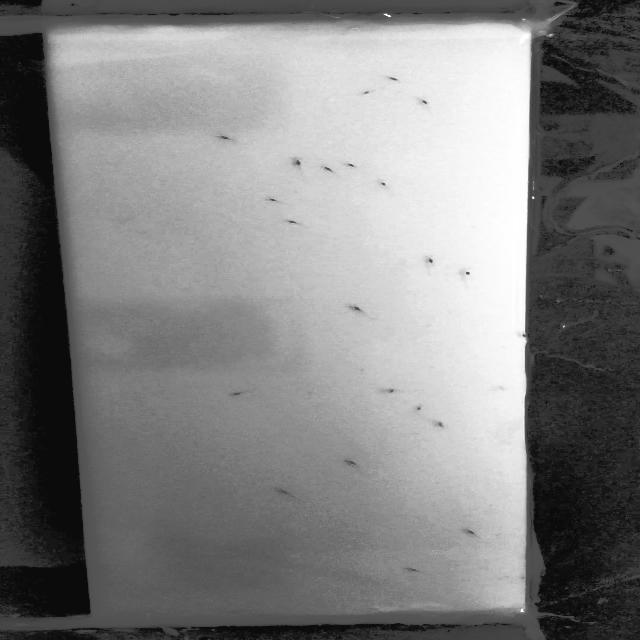shrimp: (457, 526, 484, 542), (274, 486, 298, 502), (290, 155, 310, 174), (343, 458, 370, 472), (223, 604, 260, 614), (316, 167, 341, 180), (423, 256, 441, 271), (404, 563, 428, 574), (348, 303, 370, 315), (214, 131, 237, 142), (227, 386, 251, 396), (415, 96, 437, 106), (357, 87, 381, 96), (250, 612, 284, 618), (268, 197, 293, 205), (286, 220, 310, 228), (384, 74, 403, 84), (344, 162, 364, 170), (461, 269, 473, 282), (384, 385, 398, 396), (377, 181, 394, 189), (411, 403, 426, 412), (431, 419, 446, 428)
